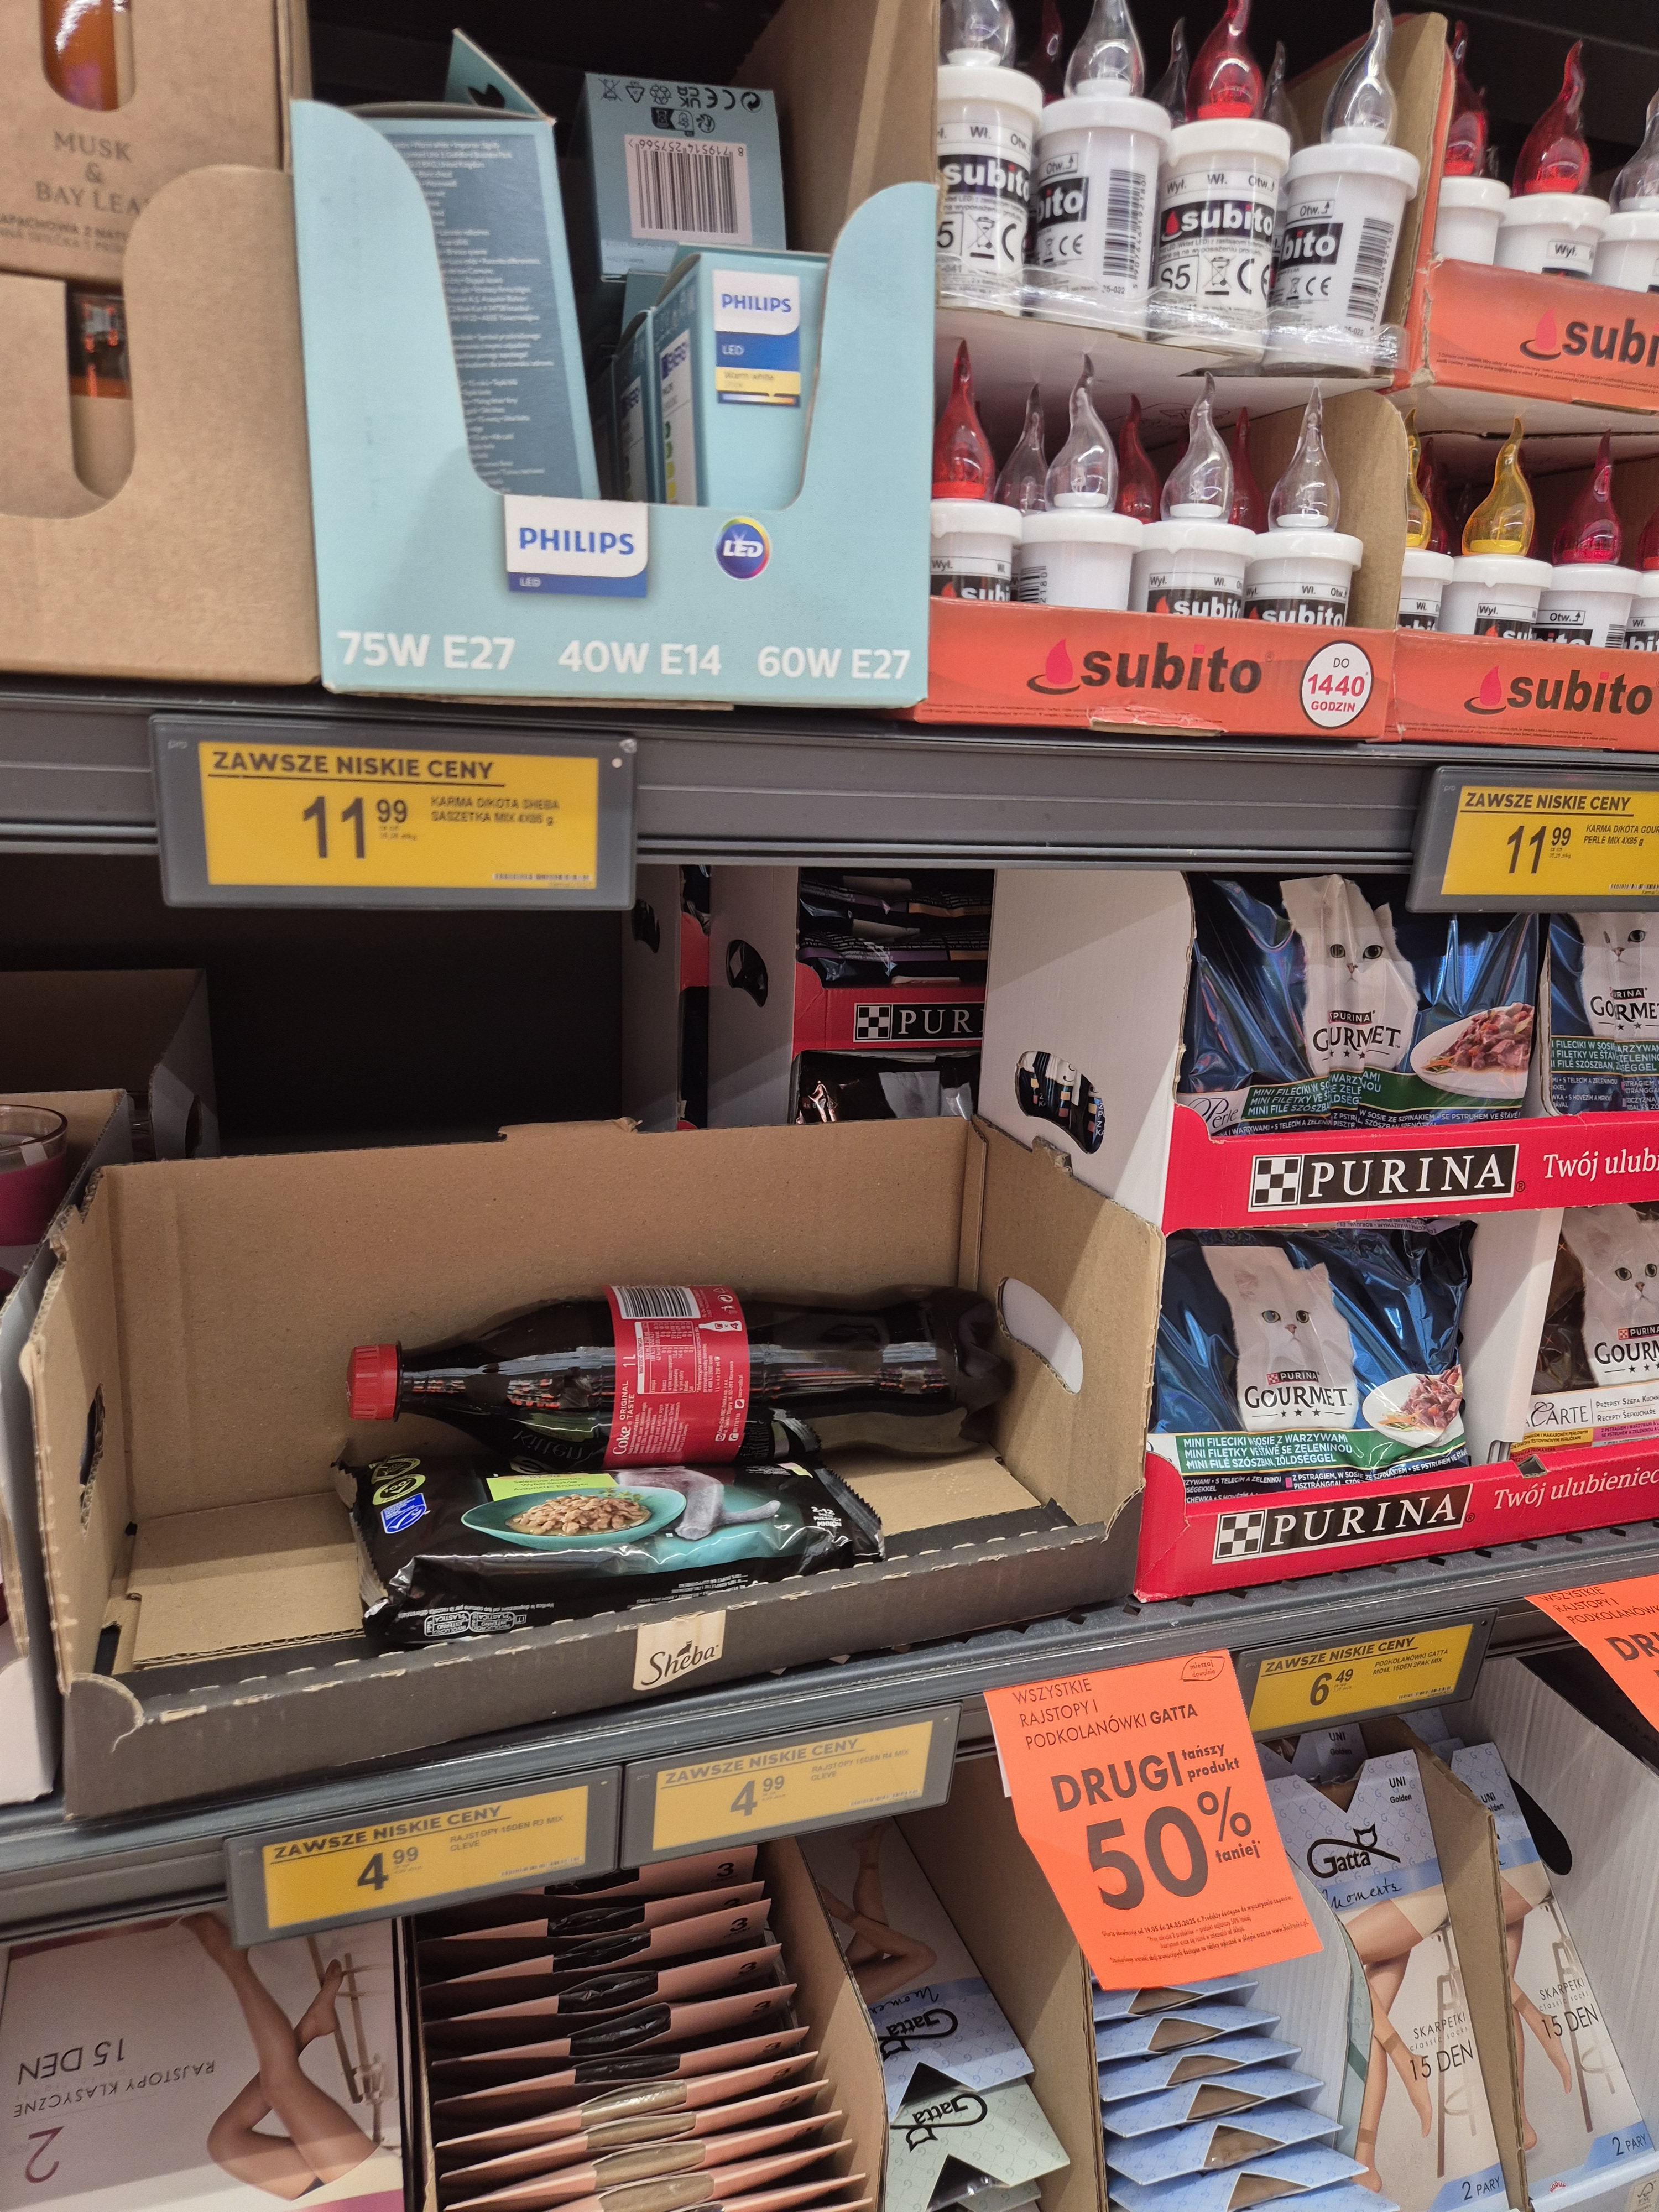Coca Cola: (335, 1233, 1032, 1484)
